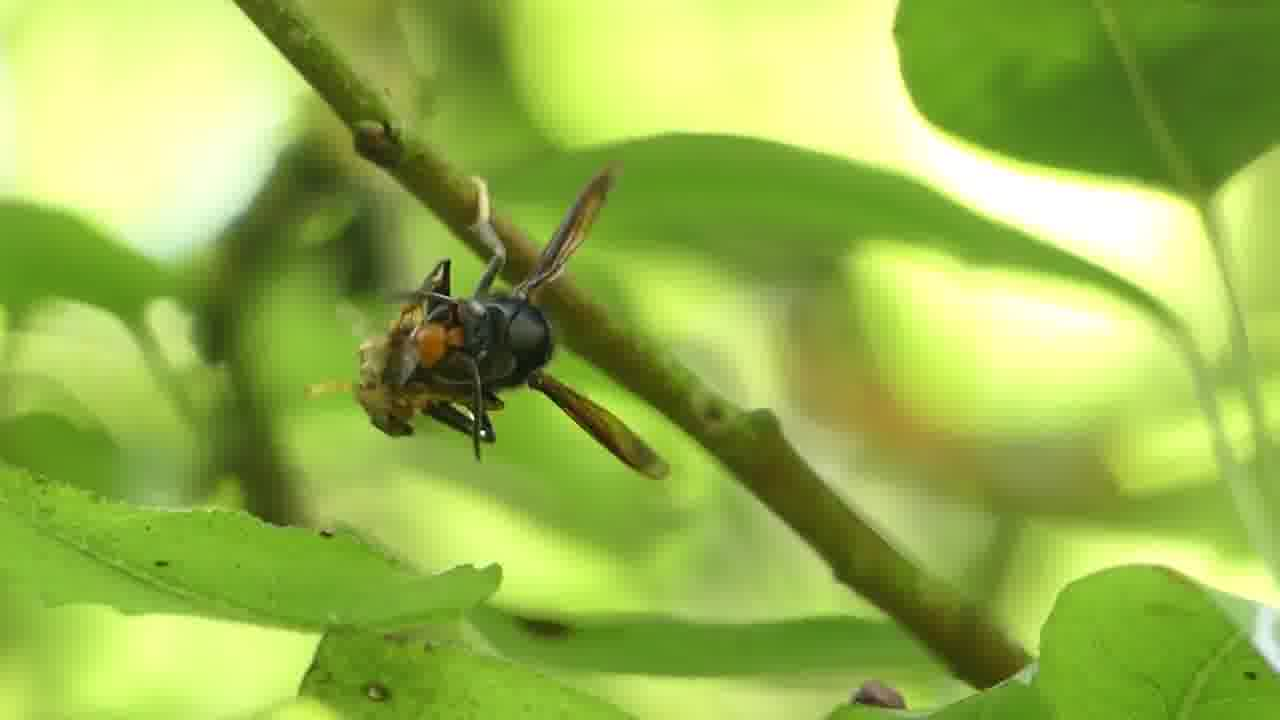hornet: (306, 230, 655, 467)
